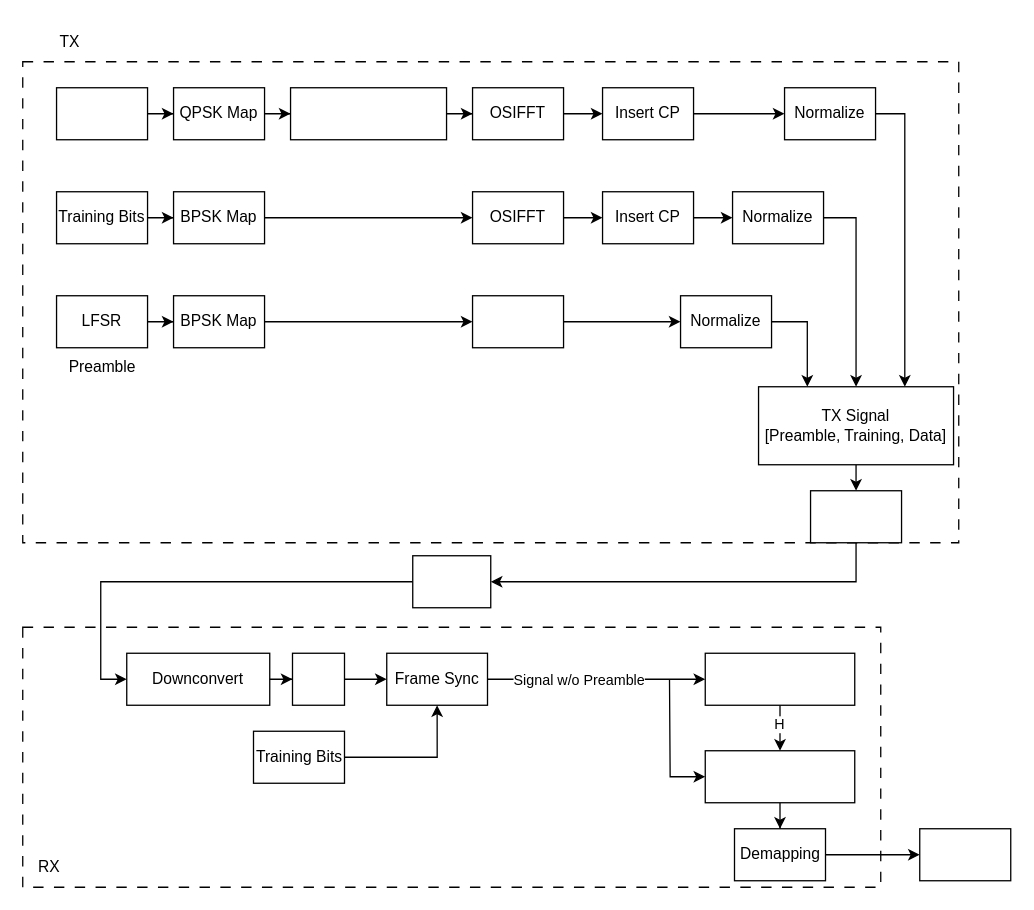
This 1034x910 diagram has some shape labels left out. Here are the shapes that lost their labels. From the top down, the centre of each, then its label:
the point at 101,113: Source Data
the point at 368,113: Reshape to N_Carr x N_OFDM
the point at 517,321: Upsampling
the point at 855,516: Upconvert
the point at 451,581: Channel
the point at 317,678: LPF
the point at 779,678: Channel Estimation
the point at 779,776: Channel Correction
the point at 964,854: RX Data
